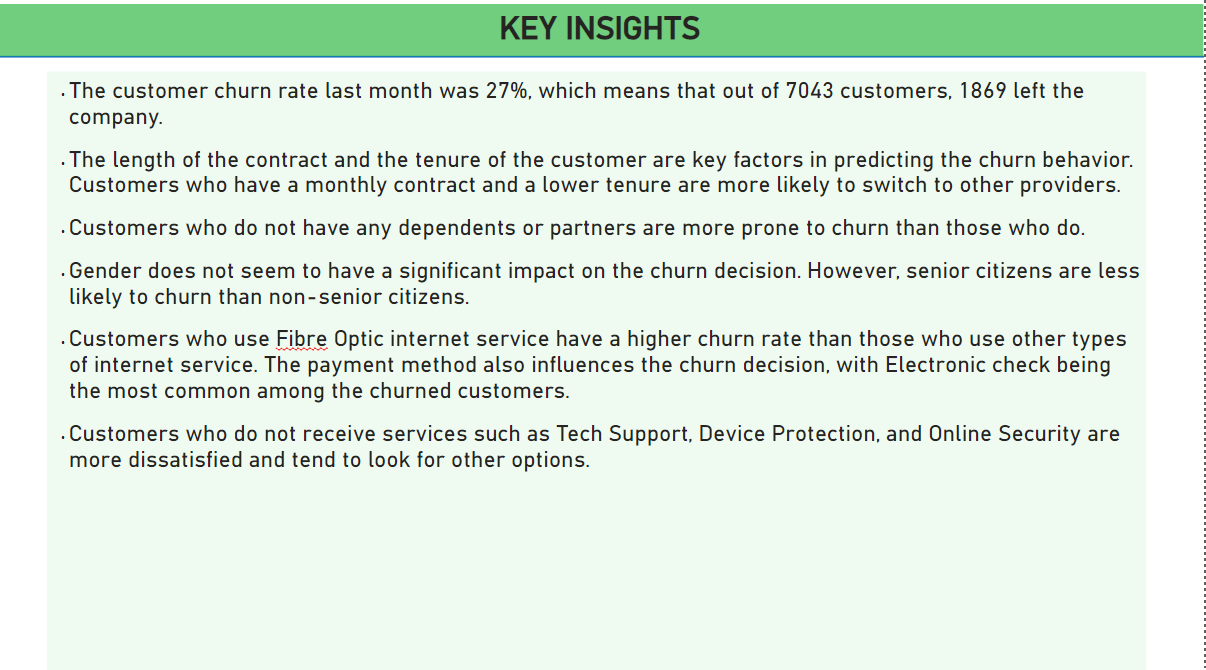

What the dashboard file says about the page in this screenshot:
{"tool":"powerbi","page":{"name":"Insights","canvas":[1280,720],"ordinal":2},"visuals":[{"type":"shape","box":[0,43.3,1280,51.1],"z":0},{"type":"textbox","box":[500,13.3,280,55.6],"z":1000},{"type":"textbox","box":[53.3,84.4,1164.4,635.6],"z":2000}]}

Visuals, with their boxes in screenshot pixels (x1, y1, x2, y2), scaled from the page's 1280x720 canvas onto the 1206x670 screenshot:
shape: (0, 40, 1205, 88)
textbox: (471, 12, 735, 64)
textbox: (50, 79, 1147, 669)
